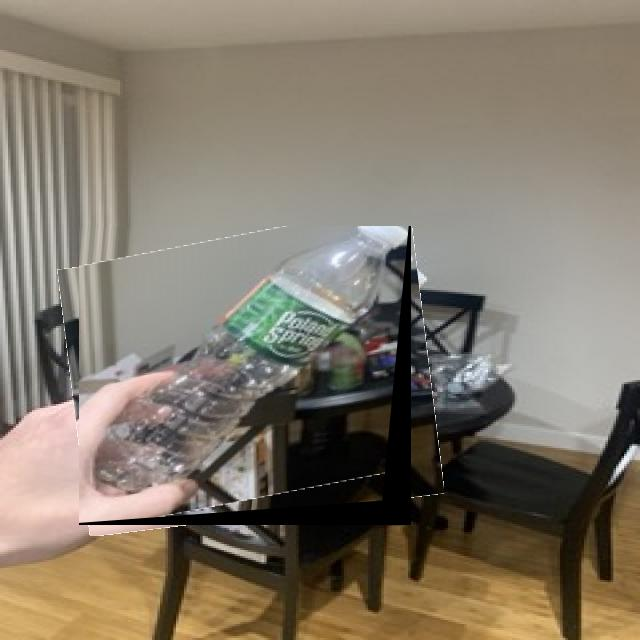water_bottle: (79, 226, 409, 519)
